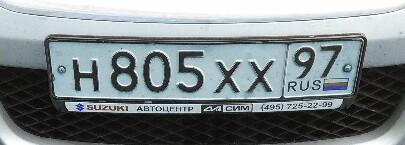license-plateSW: (48, 42, 365, 99)
